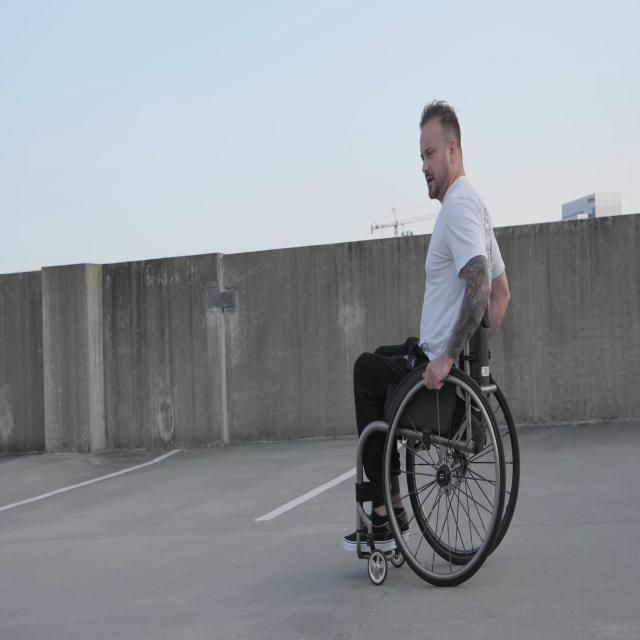wheelchairs: (356, 293, 522, 591)
